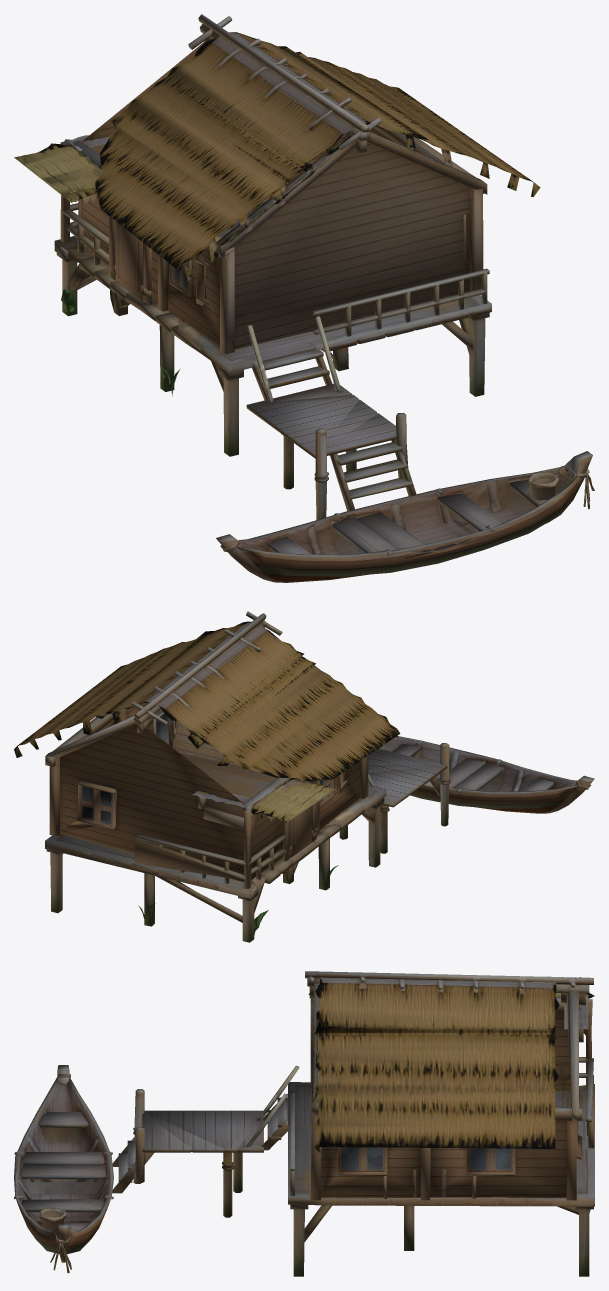
Rendered from selected.glb.
3 views of the same model, one above another, from view 1: azimuth 30°, elevation 25°; view 2: azimuth 150°, elevation 25°; view 3: azimuth 270°, elevation 25° (orthographic). The views are drawn at different scales.
Parts seen in each view (by area): view 1: tripo_node_7657750f-d0af-4957-a08a-69b471d1b600; view 2: tripo_node_7657750f-d0af-4957-a08a-69b471d1b600; view 3: tripo_node_7657750f-d0af-4957-a08a-69b471d1b600.
Part boxes in pixels (left/top/right/bottom): tripo_node_7657750f-d0af-4957-a08a-69b471d1b600: left=14, top=14, right=594, bottom=582; tripo_node_7657750f-d0af-4957-a08a-69b471d1b600: left=14, top=611, right=594, bottom=942; tripo_node_7657750f-d0af-4957-a08a-69b471d1b600: left=14, top=971, right=594, bottom=1276.
Bounding box in the file's own units: 0.8145 × 0.5332 × 0.998.
1 material, 1 textured.
